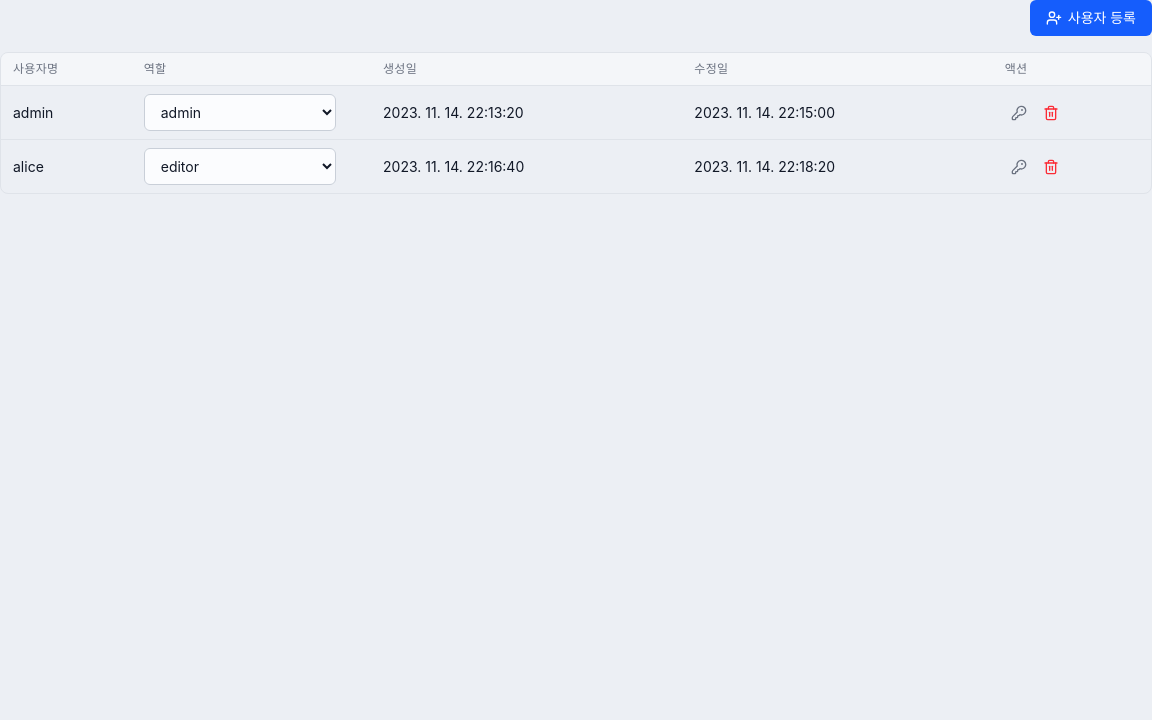
Test case: UsersPanel 삭제와 409 잠금 방지 (AC-03) › 409 SELF_DELETION 응답도 원인을 구분해 안내한다
Expected: the row with test id "admin-user-row-alice" is shown, [1, 140, 1151, 193]
Click the button named "삭제 admin". click: (1051, 112)
box: [1037, 98, 1065, 126]
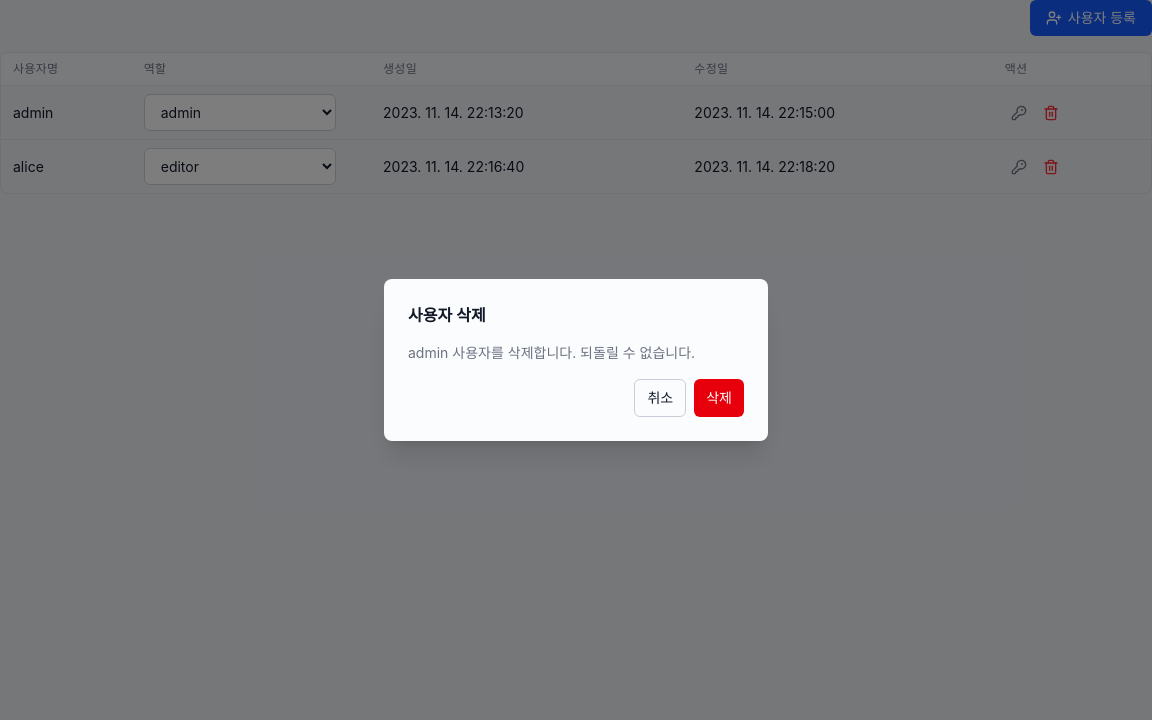
Click the button "삭제". click: (719, 398)
box: [694, 379, 744, 417]
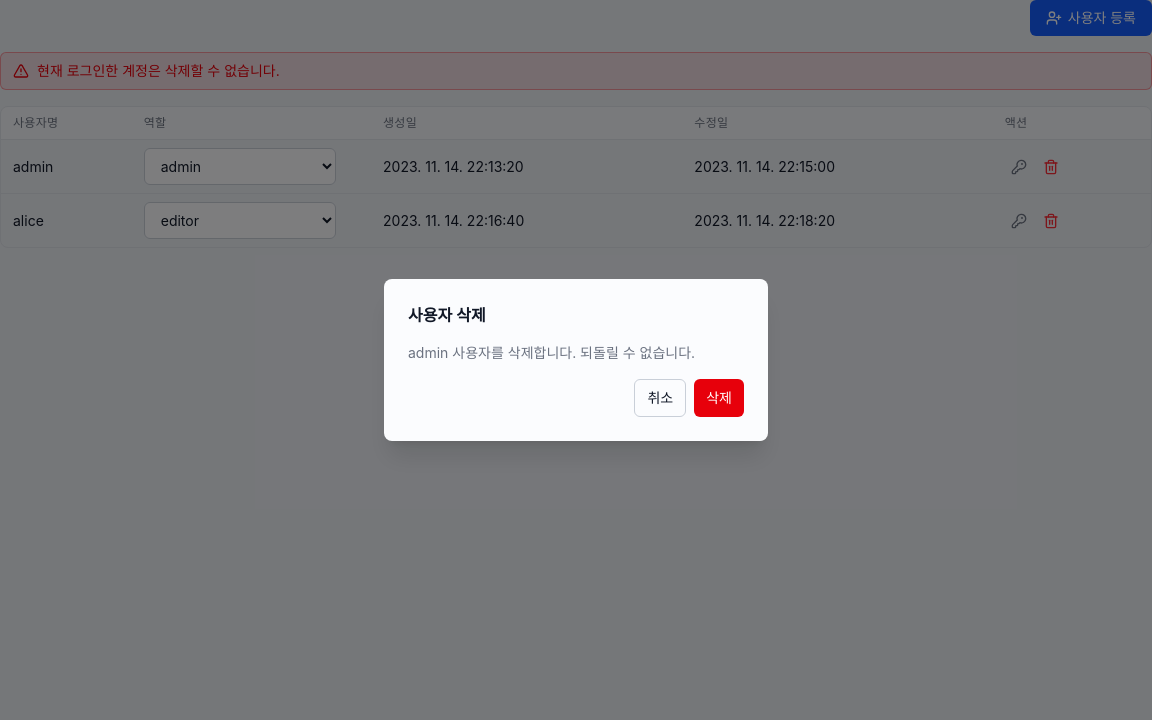
Result: the message with test id "admin-action-error" reads "현재 로그인한 계정은 삭제할 수 없습니다." at [37, 62, 280, 79]
